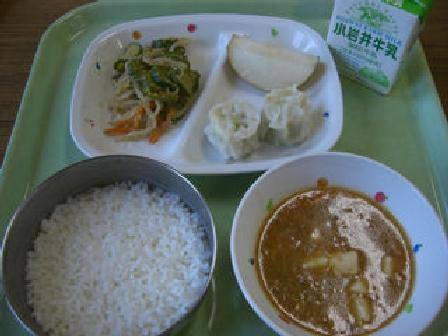Milk: (323, 0, 436, 83)
Rice: (1, 141, 214, 332)
Salad: (97, 35, 197, 133)
Spicy chili-flavored tofu: (231, 157, 443, 335)
manty: (207, 90, 327, 155)
pear: (222, 26, 321, 90)
